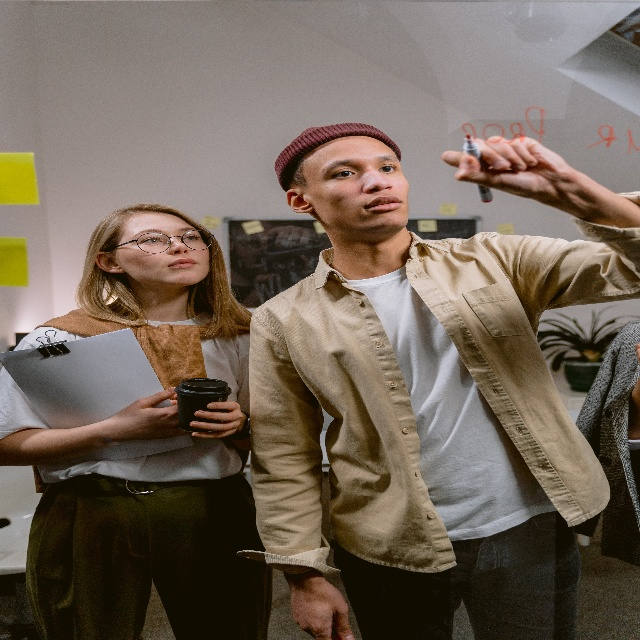Gafas: (105, 229, 215, 254)
Sin_guantes: (441, 134, 566, 201), (286, 570, 355, 640), (115, 384, 190, 441), (189, 399, 243, 439)
